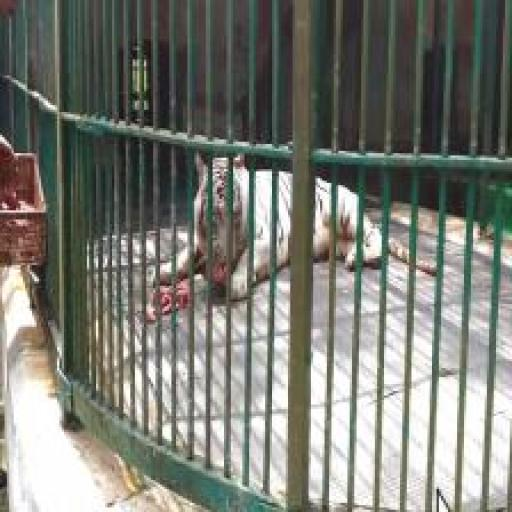Tiger: (153, 151, 439, 303)
